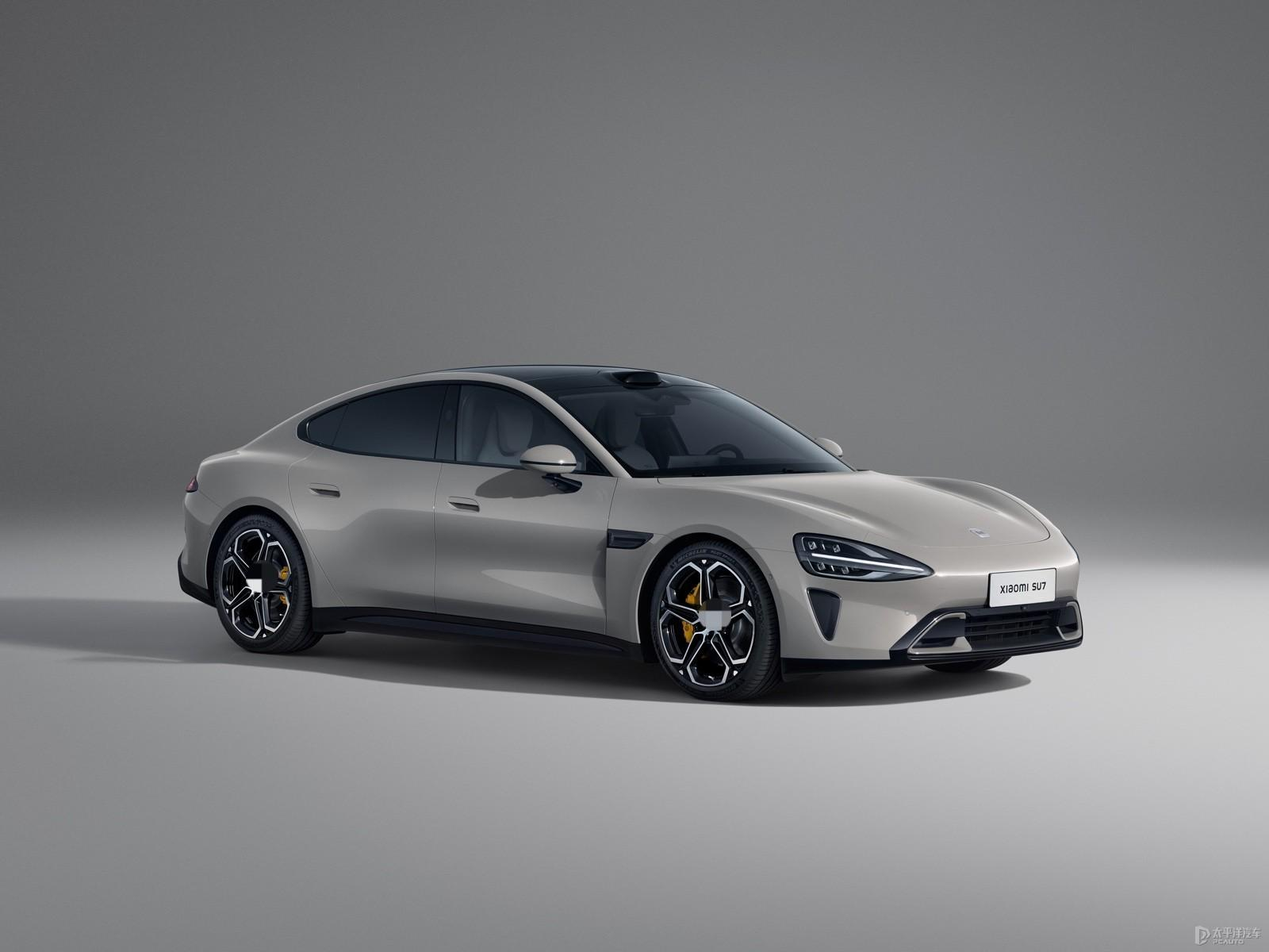XIAOMI: (970, 526, 991, 540)
